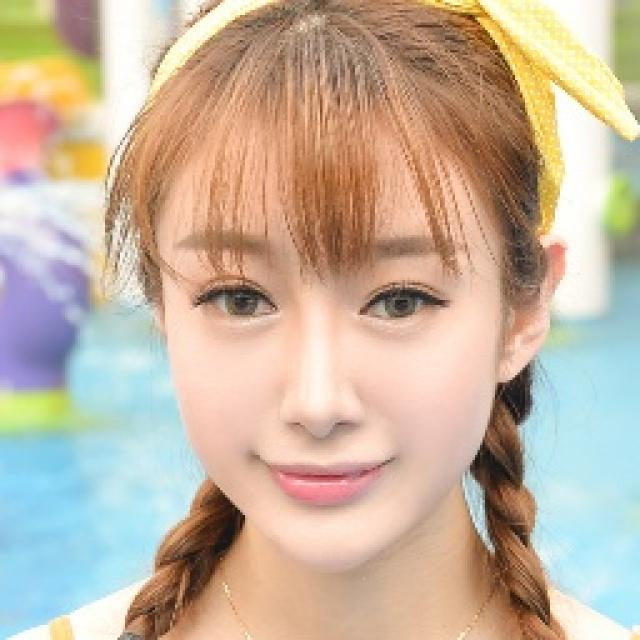earlobe: (495, 235, 568, 383)
